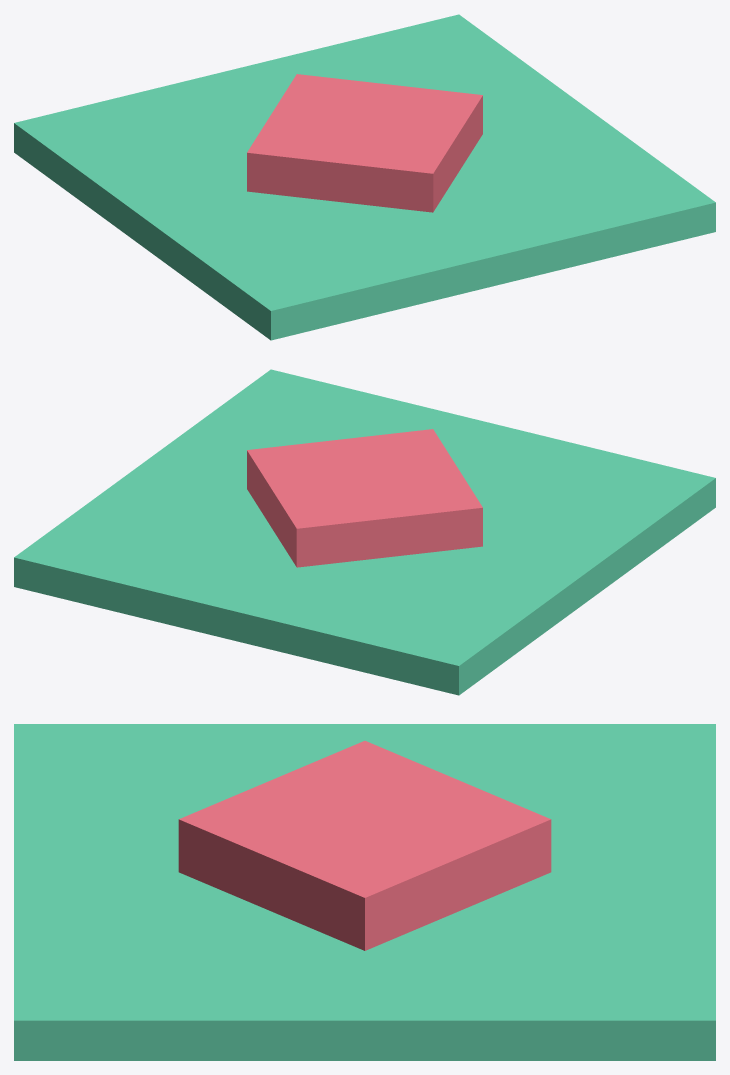
Rendered from myDiamond.fbx.
3 views of the same model, one above another, from view 1: azimuth 30°, elevation 25°; view 2: azimuth 150°, elevation 25°; view 3: azimuth 270°, elevation 25° (orthographic). The views are drawn at different scales.
Parts seen in each view (by area): view 1: obstacleDiamond.001, obstacleDiamond; view 2: obstacleDiamond.001, obstacleDiamond; view 3: obstacleDiamond.001, obstacleDiamond.
Part boxes in pixels (box(x1,y1,x2,y2)): obstacleDiamond.001: box(14, 14, 715, 340); obstacleDiamond: box(247, 74, 482, 212); obstacleDiamond.001: box(14, 369, 715, 695); obstacleDiamond: box(247, 429, 482, 567); obstacleDiamond.001: box(14, 724, 715, 1060); obstacleDiamond: box(178, 741, 551, 950).
Bounding box in the file's own units: 450 × 65.99 × 450.
